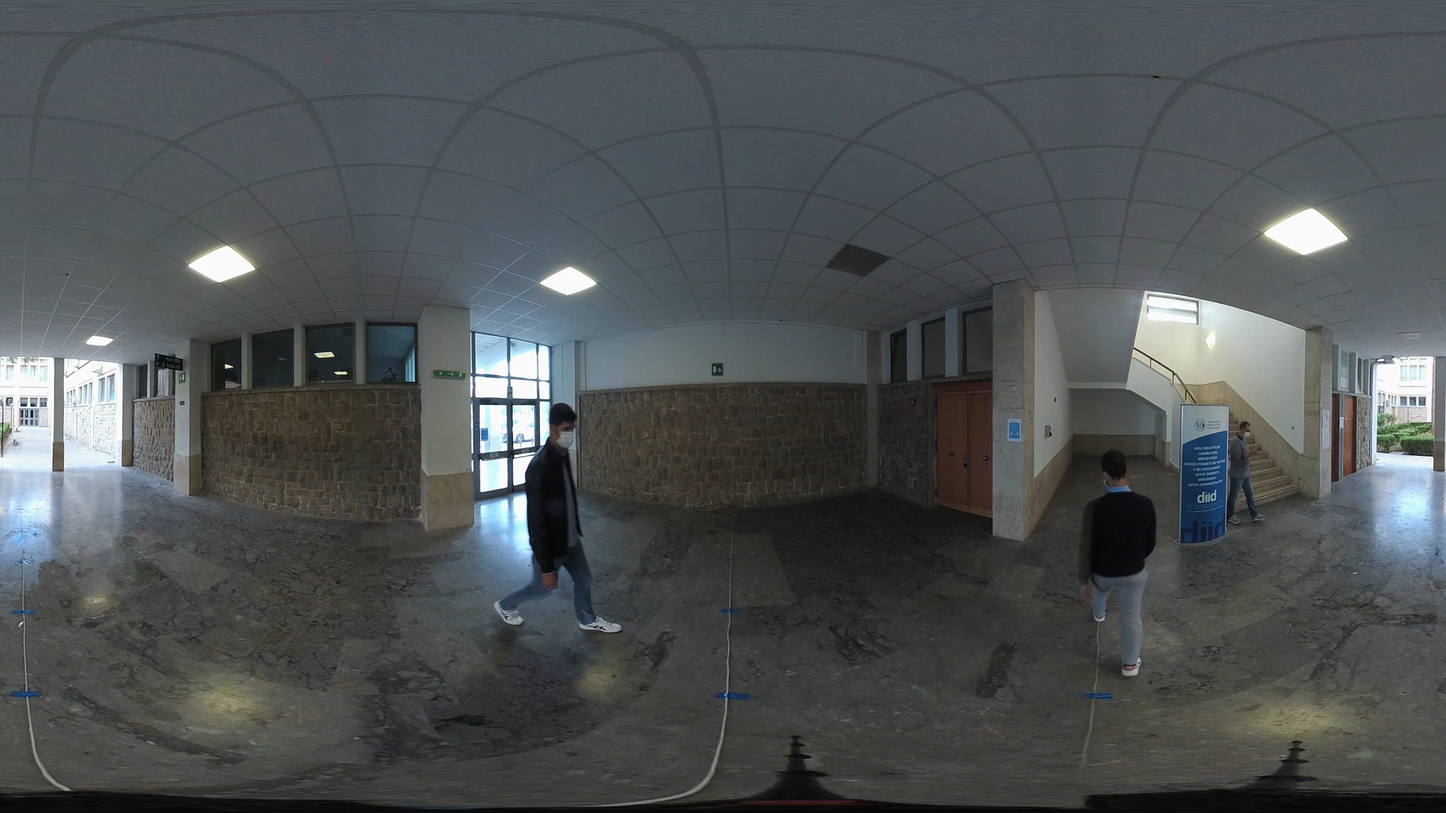Person: (495, 402, 622, 635), (1080, 452, 1158, 678), (1226, 420, 1266, 524)
